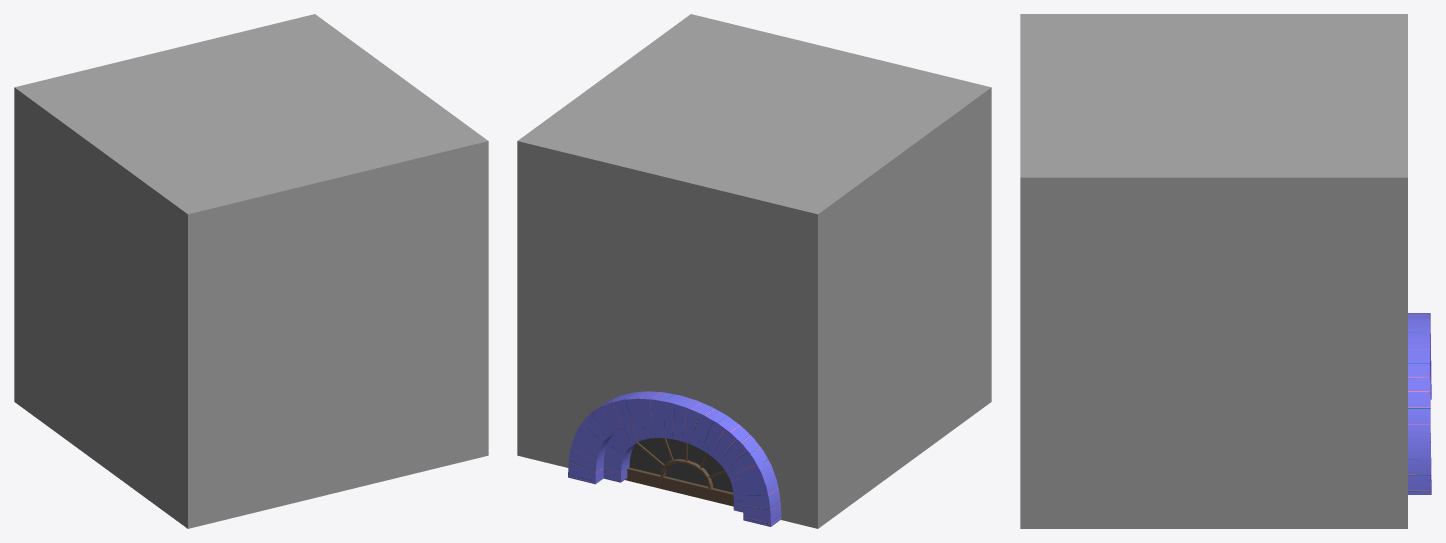
The model's file is Window_top.fbx.
3 views of the same model, side by side, from view 1: azimuth 30°, elevation 25°; view 2: azimuth 150°, elevation 25°; view 3: azimuth 270°, elevation 25° (orthographic). The views are drawn at different scales.
Visible parts, largest first — view 1: Window_top1; view 2: Window_top1; view 3: Window_top1.
Part boxes in pixels (x1,y1,x2,y2): Window_top1: [14, 14, 488, 528]; Window_top1: [517, 14, 991, 528]; Window_top1: [1020, 14, 1431, 528].
Bounding box in the file's own units: 400 × 403 × 424.
